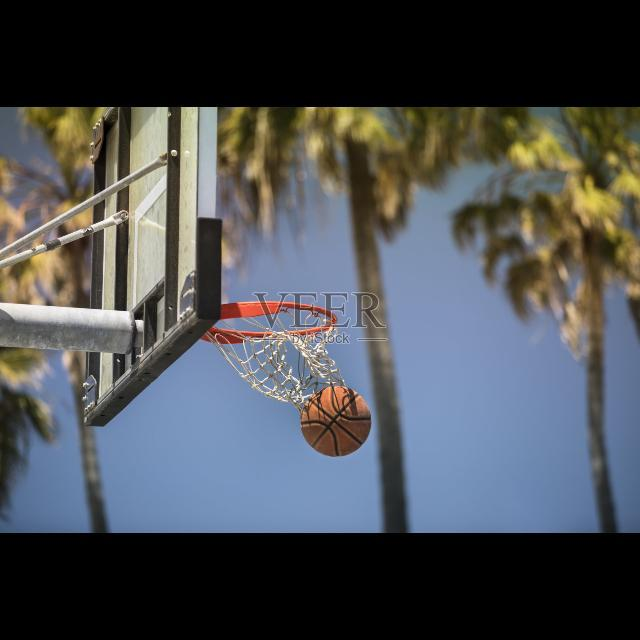basketball: (302, 386, 371, 456)
rim: (208, 302, 344, 386)
